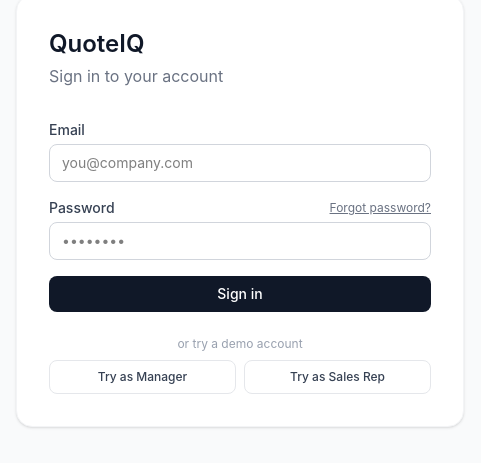
Scenario: LoginPage › shows 'Invalid email or password' for invalid credentials error
Type "wrong@test.com" into the field with placeholder "you@company.com".
click(240, 163); type("wrong@test.com")  # box [49,144,431,182]
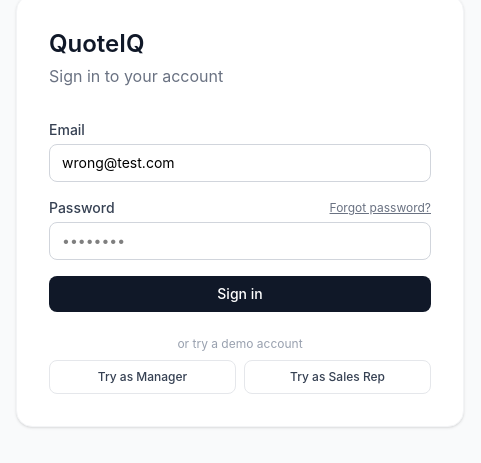
Type "wrong" into the password field with placeholder "••••••••".
click(240, 241); type("wrong")  # box [49,222,431,260]
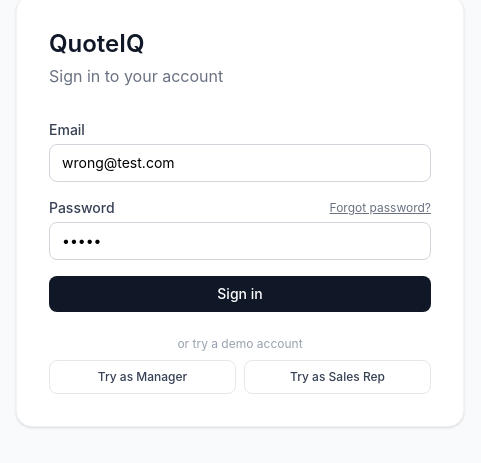
Click the button "Sign in".
click(240, 294)  # box [49,276,431,312]
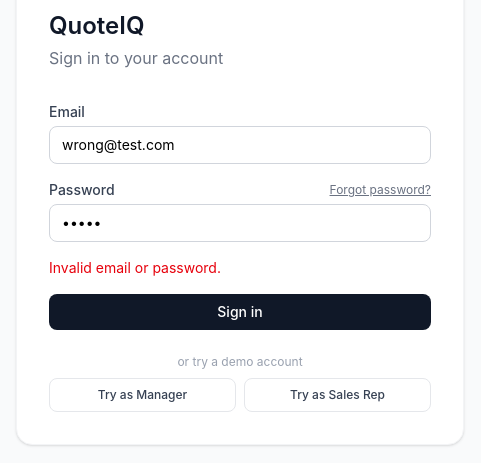
Expected: the text "Invalid email or password." is shown, [49,259,221,276]
